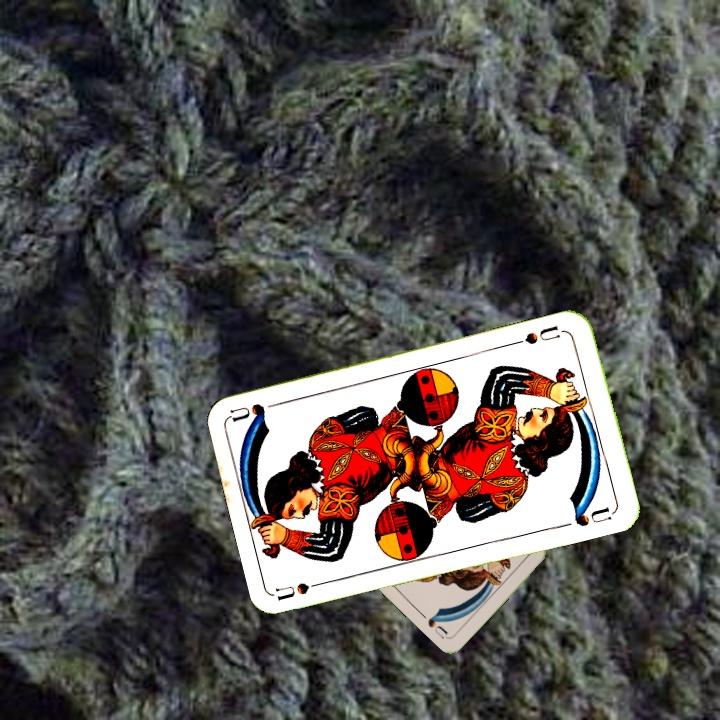SU: (510, 321, 569, 347), (274, 576, 333, 602)
